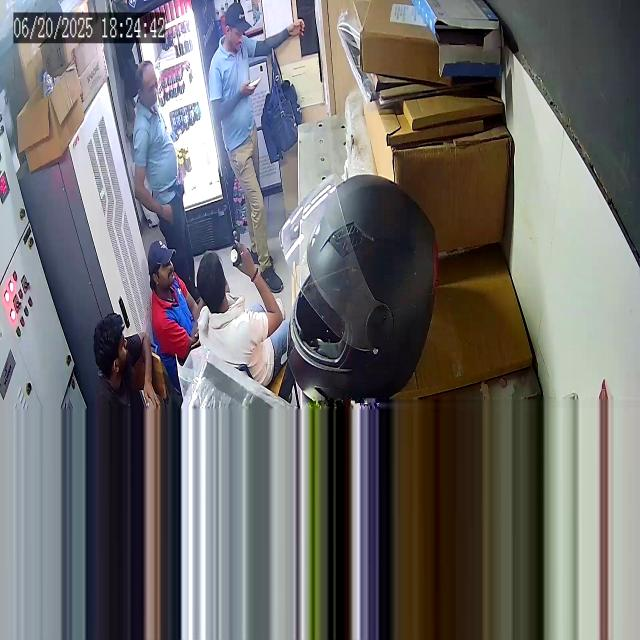helmet: (278, 172, 439, 404)
